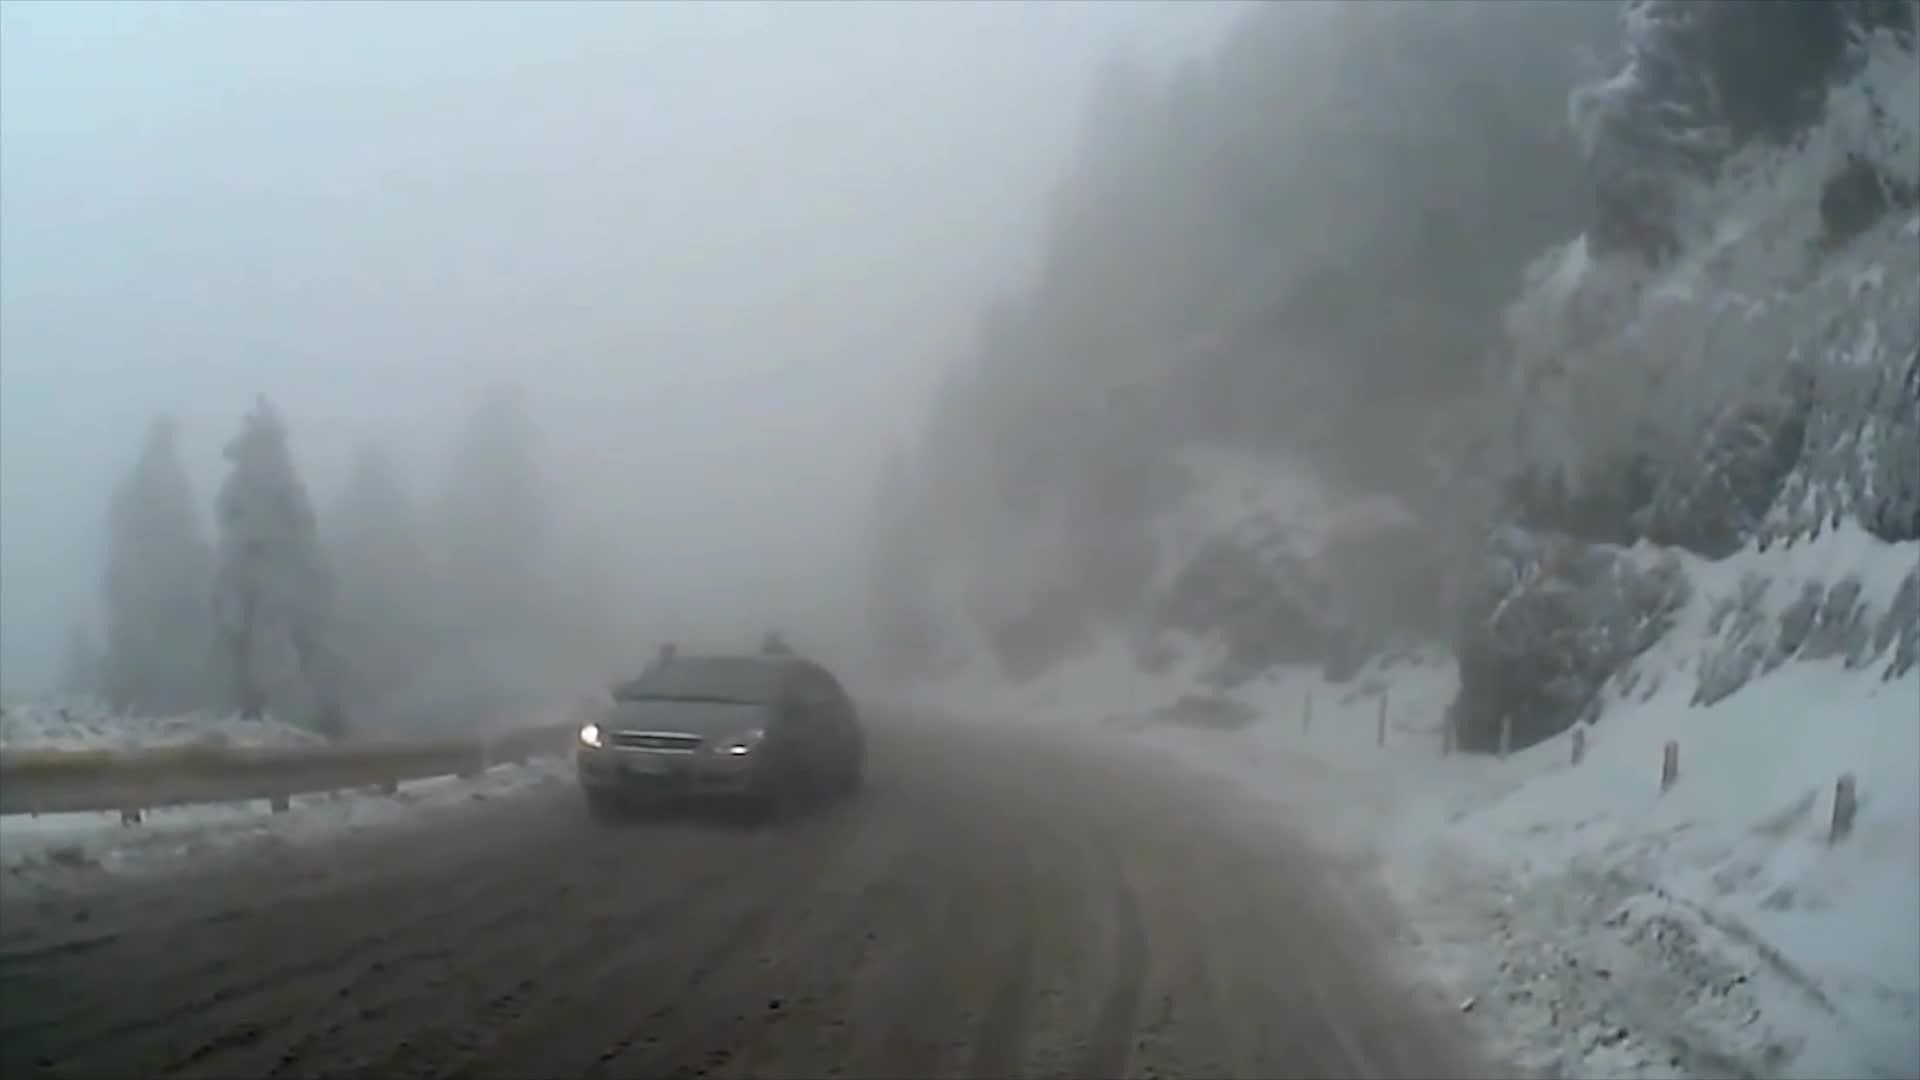vehicle: (574, 649, 861, 828)
